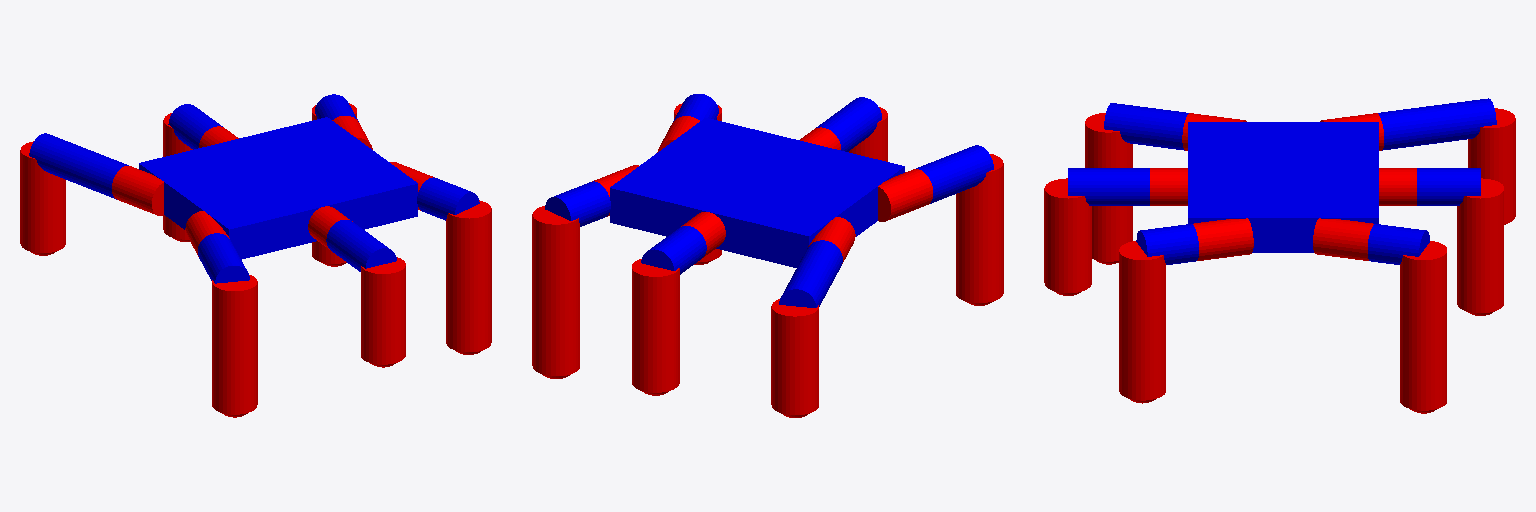
--- What the picture shows (computed from the rendered views, not written in the file) ---
The picture shows the robot from 3 angles, left to right: view 1: azimuth 30°, elevation 25°; view 2: azimuth 150°, elevation 25°; view 3: azimuth 270°, elevation 25°; orthographic projection.
Robot: pexod — 19 links, 18 joints (18 revolute); root link base_link; default pose: every joint at zero.
Visible links, largest first — view 1: base_link, leg_3_3, leg_5_3, leg_4_3, leg_0_3, leg_0_2, leg_4_2, leg_0_1, leg_5_2, leg_3_2, leg_1_2, leg_1_3 (+4 smaller); view 2: base_link, leg_2_3, leg_1_3, leg_5_3, leg_0_3, leg_0_2, leg_5_2, leg_5_1, leg_1_2, leg_2_2, leg_4_2, leg_4_3 (+5 smaller); view 3: base_link, leg_2_3, leg_3_3, leg_1_3, leg_4_3, leg_0_2, leg_5_3, leg_0_3, leg_4_2, leg_5_2, leg_1_2, leg_2_1 (+5 smaller).
Link boxes in pixels (bbox=[...]): base_link: bbox=[139, 117, 417, 259]; leg_3_3: bbox=[446, 200, 491, 354]; leg_5_3: bbox=[212, 275, 257, 417]; leg_4_3: bbox=[361, 257, 405, 367]; leg_0_3: bbox=[20, 141, 65, 255]; leg_0_2: bbox=[29, 133, 128, 199]; leg_4_2: bbox=[326, 220, 396, 271]; leg_0_1: bbox=[112, 166, 163, 215]; leg_5_2: bbox=[198, 233, 249, 283]; leg_3_2: bbox=[417, 177, 479, 220]; leg_1_2: bbox=[168, 104, 222, 149]; leg_1_3: bbox=[163, 113, 192, 241]; base_link: bbox=[610, 118, 904, 267]; leg_2_3: bbox=[532, 206, 579, 378]; leg_1_3: bbox=[632, 259, 679, 395]; leg_5_3: bbox=[956, 154, 1003, 305]; leg_0_3: bbox=[771, 299, 818, 417]; leg_0_2: bbox=[779, 240, 842, 307]; leg_5_2: bbox=[916, 145, 993, 203]; leg_5_1: bbox=[878, 169, 932, 221]; leg_1_2: bbox=[641, 226, 706, 274]; leg_2_2: bbox=[545, 181, 610, 226]; leg_4_2: bbox=[816, 97, 881, 151]; leg_4_3: bbox=[849, 107, 887, 161]; base_link: bbox=[1188, 122, 1378, 252]; leg_2_3: bbox=[1400, 241, 1446, 413]; leg_3_3: bbox=[1119, 241, 1165, 403]; leg_1_3: bbox=[1457, 178, 1503, 315]; leg_4_3: bbox=[1044, 178, 1091, 295]; leg_0_2: bbox=[1378, 98, 1496, 150]; leg_5_3: bbox=[1085, 113, 1132, 264]; leg_0_3: bbox=[1468, 108, 1515, 224]; leg_4_2: bbox=[1068, 168, 1149, 205]; leg_5_2: bbox=[1104, 103, 1188, 150]; leg_1_2: bbox=[1417, 168, 1480, 205]; leg_2_1: bbox=[1313, 218, 1373, 260].
Bounding box of the posed robot: 0.3785 × 0.495 × 0.2069 m (x, y, z).
Geometry: primitives only (box / cylinder / sphere), no mesh files.

robot.urdf — pexod:
<?xml version="1.0" ?>
<!-- =================================================================================== -->
<!-- |    This document was autogenerated by xacro from pexod.xacro                    | -->
<!-- |    EDITING THIS FILE BY HAND IS NOT RECOMMENDED                                 | -->
<!-- =================================================================================== -->
<robot name="pexod" xmlns:xacro="http://www.ros.org/wiki/xacro">
  <!-- <xacro:include filename="$(find pexod_description)/urdf/pexod_control.xacro" /> -->
  <!-- MATERIALS -->
  <material name="Blue">
    <color rgba="0 0 1 1"/>
  </material>
  <material name="Red">
    <color rgba="1 0 0 1"/>
  </material>
  <material name="Green">
    <color rgba="0 1 0 1"/>
  </material>
  <material name="Yellow">
    <color rgba="1 1 0 1"/>
  </material>
  <material name="LightGrey">
    <color rgba="0.6 0.6 0.6 1.0"/>
  </material>
  <!-- END OF MATERIALS -->
  <!-- XACRO MACROS FOR VISUALS AND COLLISIONS -->
  <!-- END OF XACRO MACROS -->
  <!-- TORSO -->
  <link name="base_link">
    <visual>
      <origin rpy="0 0 0" xyz="0 0 0"/>
      <geometry>
        <box size="0.24 0.2 0.04"/>
      </geometry>
      <material name="Blue"/>
    </visual>
    <collision>
      <origin rpy="0 0 0" xyz="0 0 0"/>
      <geometry>
        <box size="0.24 0.2 0.04"/>
      </geometry>
    </collision>
    <inertial>
      <!-- CENTER OF MASS -->
      <origin rpy="0 0 0" xyz="0 0 0"/>
      <mass value="1.031"/>
      <!-- box inertia: 1/12*m(y^2+z^2), ... -->
      <inertia ixx="0.00357413333333" ixy="0" ixz="0" iyy="0.00508626666667" iyz="0" izz="0.00838546666667"/>
    </inertial>
  </link>
  <!-- XACRO MACRO FOR LEGS LINKS/JOINTS -->
  <!-- END OF LEG LINKS/JOINTS -->
  <joint name="body_leg_2" type="revolute">
    <parent link="base_link"/>
    <child link="leg_2_1"/>
    <limit effort="30.0" lower="-1.57079632679" upper="1.57079632679" velocity="7.0"/>
    <origin rpy="0 0 -0.3" xyz="0.11 0.04 0"/>
    <!-- <xacro:if value="${index == 5 or index == 4 or index == 3}">
                <axis xyz="0 0 1"/>
            </xacro:if>
            <xacro:if value="${index == 2 or index == 1 or index == 0}"> -->
    <axis xyz="0 0 1"/>
    <!-- </xacro:if> -->
    <dynamics damping="0.0"/>
  </joint>
  <link name="leg_2_1">
    <visual>
      <origin rpy="1.57079632679 0 0" xyz="0.01 0.03 0"/>
      <geometry>
        <cylinder length="0.06" radius="0.02"/>
      </geometry>
      <material name="Red"/>
    </visual>
    <collision>
      <origin rpy="1.57079632679 0 0" xyz="0.01 0.03 0"/>
      <geometry>
        <box size="0.02 0.02 0.06"/>
      </geometry>
    </collision>
    <inertial>
      <!-- CENTER OF MASS -->
      <origin rpy="1.57079632679 0 0" xyz="0.01 0.03 0"/>
      <mass value="0.02"/>
      <!-- box inertia: 1/12*m(y^2+z^2), ... -->
      <inertia ixx="6.66666666667e-06" ixy="0" ixz="0" iyy="6.66666666667e-06" iyz="0" izz="1.33333333333e-06"/>
    </inertial>
  </link>
  <joint name="leg_2_1_2" type="revolute">
    <parent link="leg_2_1"/>
    <child link="leg_2_2"/>
    <limit effort="30.0" lower="-0.78539816339" upper="0.78539816339" velocity="7.0"/>
    <origin rpy="0 0 0" xyz="0 0.06 0"/>
    <axis xyz="1 0 0"/>
    <dynamics damping="0.0"/>
  </joint>
  <link name="leg_2_2">
    <visual>
      <origin rpy="1.57079632679 0 0" xyz="0.01 0.0282234931415 0"/>
      <geometry>
        <cylinder length="0.0564469862831" radius="0.02"/>
      </geometry>
      <material name="Blue"/>
    </visual>
    <collision>
      <origin rpy="1.57079632679 0 0" xyz="0.01 0.0282234931415 0"/>
      <geometry>
        <box size="0.02 0.02 0.0564469862831"/>
      </geometry>
    </collision>
    <inertial>
      <!-- CENTER OF MASS -->
      <origin rpy="1.57079632679 0 0" xyz="0.01 0.0282234931415 0"/>
      <mass value="0.184"/>
      <!-- box inertia: 1/12*m(y^2+z^2), ... -->
      <inertia ixx="5.49893546601e-05" ixy="0" ixz="0" iyy="5.49893546601e-05" iyz="0" izz="1.22666666667e-05"/>
    </inertial>
  </link>
  <joint name="leg_2_2_3" type="revolute">
    <parent link="leg_2_2"/>
    <child link="leg_2_3"/>
    <limit effort="30.0" lower="-0.78539816339" upper="0.78539816339" velocity="7.0"/>
    <origin rpy="-1.57079632679 0 0" xyz="0 0.0564469862831 0"/>
    <axis xyz="-1 0 0"/>
    <dynamics damping="0.0"/>
  </joint>
  <link name="leg_2_3">
    <visual>
      <origin rpy="1.57079632679 0 0" xyz="0.0125 0.087176072806 0"/>
      <geometry>
        <cylinder length="0.174352145612" radius="0.025"/>
      </geometry>
      <material name="Red"/>
    </visual>
    <visual>
      <origin rpy="1.57079632679 0 0" xyz="0.0125 0.161852145612 0"/>
      <geometry>
        <sphere radius="0.025"/>
      </geometry>
      <material name="Red"/>
    </visual>
    <collision>
      <origin rpy="1.57079632679 0 0" xyz="0.0125 0.087176072806 0"/>
      <geometry>
        <box size="0.025 0.025 0.174352145612"/>
      </geometry>
    </collision>
    <collision>
      <origin rpy="1.57079632679 0 0" xyz="0.0125 0.161852145612 0"/>
      <geometry>
        <sphere radius="0.025"/>
      </geometry>
      <material name="Red"/>
    </collision>
    <inertial>
      <!-- CENTER OF MASS -->
      <origin rpy="1.57079632679 0 0" xyz="0.0125 0.087176072806 0"/>
      <mass value="0.04"/>
      <!-- box inertia: 1/12*m(y^2+z^2), ... -->
      <inertia ixx="0.000103412235598" ixy="0" ixz="0" iyy="0.000103412235598" iyz="0" izz="4.16666666667e-06"/>
    </inertial>
  </link>
  <joint name="body_leg_3" type="revolute">
    <parent link="base_link"/>
    <child link="leg_3_1"/>
    <limit effort="30.0" lower="-1.57079632679" upper="1.57079632679" velocity="7.0"/>
    <origin rpy="0 0 0.3" xyz="0.11 -0.04 0"/>
    <!-- <xacro:if value="${index == 5 or index == 4 or index == 3}">
                <axis xyz="0 0 1"/>
            </xacro:if>
            <xacro:if value="${index == 2 or index == 1 or index == 0}"> -->
    <axis xyz="0 0 1"/>
    <!-- </xacro:if> -->
    <dynamics damping="0.0"/>
  </joint>
  <link name="leg_3_1">
    <visual>
      <origin rpy="1.57079632679 0 0" xyz="0.01 -0.03 0"/>
      <geometry>
        <cylinder length="0.06" radius="0.02"/>
      </geometry>
      <material name="Red"/>
    </visual>
    <collision>
      <origin rpy="1.57079632679 0 0" xyz="0.01 -0.03 0"/>
      <geometry>
        <box size="0.02 0.02 0.06"/>
      </geometry>
    </collision>
    <inertial>
      <!-- CENTER OF MASS -->
      <origin rpy="1.57079632679 0 0" xyz="0.01 -0.03 0"/>
      <mass value="0.02"/>
      <!-- box inertia: 1/12*m(y^2+z^2), ... -->
      <inertia ixx="6.66666666667e-06" ixy="0" ixz="0" iyy="6.66666666667e-06" iyz="0" izz="1.33333333333e-06"/>
    </inertial>
  </link>
  <joint name="leg_3_1_2" type="revolute">
    <parent link="leg_3_1"/>
    <child link="leg_3_2"/>
    <limit effort="30.0" lower="-0.78539816339" upper="0.78539816339" velocity="7.0"/>
    <origin rpy="0 0 0" xyz="0 -0.06 0"/>
    <axis xyz="-1 0 0"/>
    <dynamics damping="0.0"/>
  </joint>
  <link name="leg_3_2">
    <visual>
      <origin rpy="1.57079632679 0 0" xyz="0.01 -0.0283159302134 0"/>
      <geometry>
        <cylinder length="0.0566318604267" radius="0.02"/>
      </geometry>
      <material name="Blue"/>
    </visual>
    <collision>
      <origin rpy="1.57079632679 0 0" xyz="0.01 -0.0283159302134 0"/>
      <geometry>
        <box size="0.02 0.02 0.0566318604267"/>
      </geometry>
    </collision>
    <inertial>
      <!-- CENTER OF MASS -->
      <origin rpy="1.57079632679 0 0" xyz="0.01 -0.0283159302134 0"/>
      <mass value="0.184"/>
      <!-- box inertia: 1/12*m(y^2+z^2), ... -->
      <inertia ixx="5.5309903436e-05" ixy="0" ixz="0" iyy="5.5309903436e-05" iyz="0" izz="1.22666666667e-05"/>
    </inertial>
  </link>
  <joint name="leg_3_2_3" type="revolute">
    <parent link="leg_3_2"/>
    <child link="leg_3_3"/>
    <limit effort="30.0" lower="-0.78539816339" upper="0.78539816339" velocity="7.0"/>
    <origin rpy="1.57079632679 0 0" xyz="0 -0.0566318604267 0"/>
    <axis xyz="1 0 0"/>
    <dynamics damping="0.0"/>
  </joint>
  <link name="leg_3_3">
    <visual>
      <origin rpy="1.57079632679 0 0" xyz="0.0125 -0.081265682382 0"/>
      <geometry>
        <cylinder length="0.162531364764" radius="0.025"/>
      </geometry>
      <material name="Red"/>
    </visual>
    <visual>
      <origin rpy="1.57079632679 0 0" xyz="0.0125 -0.150031364764 0"/>
      <geometry>
        <sphere radius="0.025"/>
      </geometry>
      <material name="Red"/>
    </visual>
    <collision>
      <origin rpy="1.57079632679 0 0" xyz="0.0125 -0.081265682382 0"/>
      <geometry>
        <box size="0.025 0.025 0.162531364764"/>
      </geometry>
    </collision>
    <collision>
      <origin rpy="1.57079632679 0 0" xyz="0.0125 -0.150031364764 0"/>
      <geometry>
        <sphere radius="0.025"/>
      </geometry>
      <material name="Red"/>
    </collision>
    <inertial>
      <!-- CENTER OF MASS -->
      <origin rpy="1.57079632679 0 0" xyz="0.0125 -0.081265682382 0"/>
      <mass value="0.04"/>
      <!-- box inertia: 1/12*m(y^2+z^2), ... -->
      <inertia ixx="9.01381484402e-05" ixy="0" ixz="0" iyy="9.01381484402e-05" iyz="0" izz="4.16666666667e-06"/>
    </inertial>
  </link>
  <joint name="body_leg_0" type="revolute">
    <parent link="base_link"/>
    <child link="leg_0_1"/>
    <limit effort="30.0" lower="-1.57079632679" upper="1.57079632679" velocity="7.0"/>
    <origin rpy="0 0 0.3" xyz="-0.13 0.04 0"/>
    <!-- <xacro:if value="${index == 5 or index == 4 or index == 3}">
                <axis xyz="0 0 1"/>
            </xacro:if>
            <xacro:if value="${index == 2 or index == 1 or index == 0}"> -->
    <axis xyz="0 0 1"/>
    <!-- </xacro:if> -->
    <dynamics damping="0.0"/>
  </joint>
  <link name="leg_0_1">
    <visual>
      <origin rpy="1.57079632679 0 0" xyz="0.01 0.03 0"/>
      <geometry>
        <cylinder length="0.06" radius="0.02"/>
      </geometry>
      <material name="Red"/>
    </visual>
    <collision>
      <origin rpy="1.57079632679 0 0" xyz="0.01 0.03 0"/>
      <geometry>
        <box size="0.02 0.02 0.06"/>
      </geometry>
    </collision>
    <inertial>
      <!-- CENTER OF MASS -->
      <origin rpy="1.57079632679 0 0" xyz="0.01 0.03 0"/>
      <mass value="0.02"/>
      <!-- box inertia: 1/12*m(y^2+z^2), ... -->
      <inertia ixx="6.66666666667e-06" ixy="0" ixz="0" iyy="6.66666666667e-06" iyz="0" izz="1.33333333333e-06"/>
    </inertial>
  </link>
  <joint name="leg_0_1_2" type="revolute">
    <parent link="leg_0_1"/>
    <child link="leg_0_2"/>
    <limit effort="30.0" lower="-0.78539816339" upper="0.78539816339" velocity="7.0"/>
    <origin rpy="0 0 0" xyz="0 0.06 0"/>
    <axis xyz="1 0 0"/>
    <dynamics damping="0.0"/>
  </joint>
  <link name="leg_0_2">
    <visual>
      <origin rpy="1.57079632679 0 0" xyz="0.01 0.061790783689 0"/>
      <geometry>
        <cylinder length="0.123581567378" radius="0.02"/>
      </geometry>
      <material name="Blue"/>
    </visual>
    <collision>
      <origin rpy="1.57079632679 0 0" xyz="0.01 0.061790783689 0"/>
      <geometry>
        <box size="0.02 0.02 0.123581567378"/>
      </geometry>
    </collision>
    <inertial>
      <!-- CENTER OF MASS -->
      <origin rpy="1.57079632679 0 0" xyz="0.01 0.061790783689 0"/>
      <mass value="0.184"/>
      <!-- box inertia: 1/12*m(y^2+z^2), ... -->
      <inertia ixx="0.000240310191533" ixy="0" ixz="0" iyy="0.000240310191533" iyz="0" izz="1.22666666667e-05"/>
    </inertial>
  </link>
  <joint name="leg_0_2_3" type="revolute">
    <parent link="leg_0_2"/>
    <child link="leg_0_3"/>
    <limit effort="30.0" lower="-0.78539816339" upper="0.78539816339" velocity="7.0"/>
    <origin rpy="-1.57079632679 0 0" xyz="0 0.123581567378 0"/>
    <axis xyz="-1 0 0"/>
    <dynamics damping="0.0"/>
  </joint>
  <link name="leg_0_3">
    <visual>
      <origin rpy="1.57079632679 0 0" xyz="0.0125 0.0567997759425 0"/>
      <geometry>
        <cylinder length="0.113599551885" radius="0.025"/>
      </geometry>
      <material name="Red"/>
    </visual>
    <visual>
      <origin rpy="1.57079632679 0 0" xyz="0.0125 0.101099551885 0"/>
      <geometry>
        <sphere radius="0.025"/>
      </geometry>
      <material name="Red"/>
    </visual>
    <collision>
      <origin rpy="1.57079632679 0 0" xyz="0.0125 0.0567997759425 0"/>
      <geometry>
        <box size="0.025 0.025 0.113599551885"/>
      </geometry>
    </collision>
    <collision>
      <origin rpy="1.57079632679 0 0" xyz="0.0125 0.101099551885 0"/>
      <geometry>
        <sphere radius="0.025"/>
      </geometry>
      <material name="Red"/>
    </collision>
    <inertial>
      <!-- CENTER OF MASS -->
      <origin rpy="1.57079632679 0 0" xyz="0.0125 0.0567997759425 0"/>
      <mass value="0.04"/>
      <!-- box inertia: 1/12*m(y^2+z^2), ... -->
      <inertia ixx="4.50995272949e-05" ixy="0" ixz="0" iyy="4.50995272949e-05" iyz="0" izz="4.16666666667e-06"/>
    </inertial>
  </link>
  <joint name="body_leg_5" type="revolute">
    <parent link="base_link"/>
    <child link="leg_5_1"/>
    <limit effort="30.0" lower="-1.57079632679" upper="1.57079632679" velocity="7.0"/>
    <origin rpy="0 0 -0.3" xyz="-0.13 -0.04 0"/>
    <!-- <xacro:if value="${index == 5 or index == 4 or index == 3}">
                <axis xyz="0 0 1"/>
            </xacro:if>
            <xacro:if value="${index == 2 or index == 1 or index == 0}"> -->
    <axis xyz="0 0 1"/>
    <!-- </xacro:if> -->
    <dynamics damping="0.0"/>
  </joint>
  <link name="leg_5_1">
    <visual>
      <origin rpy="1.57079632679 0 0" xyz="0.01 -0.03 0"/>
      <geometry>
        <cylinder length="0.06" radius="0.02"/>
      </geometry>
      <material name="Red"/>
    </visual>
    <collision>
      <origin rpy="1.57079632679 0 0" xyz="0.01 -0.03 0"/>
      <geometry>
        <box size="0.02 0.02 0.06"/>
      </geometry>
    </collision>
    <inertial>
      <!-- CENTER OF MASS -->
      <origin rpy="1.57079632679 0 0" xyz="0.01 -0.03 0"/>
      <mass value="0.02"/>
      <!-- box inertia: 1/12*m(y^2+z^2), ... -->
      <inertia ixx="6.66666666667e-06" ixy="0" ixz="0" iyy="6.66666666667e-06" iyz="0" izz="1.33333333333e-06"/>
    </inertial>
  </link>
  <joint name="leg_5_1_2" type="revolute">
    <parent link="leg_5_1"/>
    <child link="leg_5_2"/>
    <limit effort="30.0" lower="-0.78539816339" upper="0.78539816339" velocity="7.0"/>
    <origin rpy="0 0 0" xyz="0 -0.06 0"/>
    <axis xyz="-1 0 0"/>
    <dynamics damping="0.0"/>
  </joint>
  <link name="leg_5_2">
    <visual>
      <origin rpy="1.57079632679 0 0" xyz="0.01 -0.0430972946011 0"/>
      <geometry>
        <cylinder length="0.0861945892022" radius="0.02"/>
      </geometry>
      <material name="Blue"/>
    </visual>
    <collision>
      <origin rpy="1.57079632679 0 0" xyz="0.01 -0.0430972946011 0"/>
      <geometry>
        <box size="0.02 0.02 0.0861945892022"/>
      </geometry>
    </collision>
    <inertial>
      <!-- CENTER OF MASS -->
      <origin rpy="1.57079632679 0 0" xyz="0.01 -0.0430972946011 0"/>
      <mass value="0.184"/>
      <!-- box inertia: 1/12*m(y^2+z^2), ... -->
      <inertia ixx="0.000120052443852" ixy="0" ixz="0" iyy="0.000120052443852" iyz="0" izz="1.22666666667e-05"/>
    </inertial>
  </link>
  <joint name="leg_5_2_3" type="revolute">
    <parent link="leg_5_2"/>
    <child link="leg_5_3"/>
    <limit effort="30.0" lower="-0.78539816339" upper="0.78539816339" velocity="7.0"/>
    <origin rpy="1.57079632679 0 0" xyz="0 -0.0861945892022 0"/>
    <axis xyz="1 0 0"/>
    <dynamics damping="0.0"/>
  </joint>
  <link name="leg_5_3">
    <visual>
      <origin rpy="1.57079632679 0 0" xyz="0.0125 -0.0748685669865 0"/>
      <geometry>
        <cylinder length="0.149737133973" radius="0.025"/>
      </geometry>
      <material name="Red"/>
    </visual>
    <visual>
      <origin rpy="1.57079632679 0 0" xyz="0.0125 -0.137237133973 0"/>
      <geometry>
        <sphere radius="0.025"/>
      </geometry>
      <material name="Red"/>
    </visual>
    <collision>
      <origin rpy="1.57079632679 0 0" xyz="0.0125 -0.0748685669865 0"/>
      <geometry>
        <box size="0.025 0.025 0.149737133973"/>
      </geometry>
    </collision>
    <collision>
      <origin rpy="1.57079632679 0 0" xyz="0.0125 -0.137237133973 0"/>
      <geometry>
        <sphere radius="0.025"/>
      </geometry>
      <material name="Red"/>
    </collision>
    <inertial>
      <!-- CENTER OF MASS -->
      <origin rpy="1.57079632679 0 0" xyz="0.0125 -0.0748685669865 0"/>
      <mass value="0.04"/>
      <!-- box inertia: 1/12*m(y^2+z^2), ... -->
      <inertia ixx="7.68206976348e-05" ixy="0" ixz="0" iyy="7.68206976348e-05" iyz="0" izz="4.16666666667e-06"/>
    </inertial>
  </link>
  <joint name="body_leg_1" type="revolute">
    <parent link="base_link"/>
    <child link="leg_1_1"/>
    <limit effort="30.0" lower="-1.57079632679" upper="1.57079632679" velocity="7.0"/>
    <origin rpy="0 0 0" xyz="-0.01 0.08 0"/>
    <!-- <xacro:if value="${index == 5 or index == 4 or index == 3}">
                <axis xyz="0 0 1"/>
            </xacro:if>
            <xacro:if value="${index == 2 or index == 1 or index == 0}"> -->
    <axis xyz="0 0 1"/>
    <!-- </xacro:if> -->
    <dynamics damping="0.0"/>
  </joint>
  <link name="leg_1_1">
    <visual>
      <origin rpy="1.57079632679 0 0" xyz="0.01 0.03 0"/>
      <geometry>
        <cylinder length="0.06" radius="0.02"/>
      </geometry>
      <material name="Red"/>
    </visual>
    <collision>
      <origin rpy="1.57079632679 0 0" xyz="0.01 0.03 0"/>
      <geometry>
        <box size="0.02 0.02 0.06"/>
      </geometry>
    </collision>
    <inertial>
      <!-- CENTER OF MASS -->
      <origin rpy="1.57079632679 0 0" xyz="0.01 0.03 0"/>
      <mass value="0.02"/>
      <!-- box inertia: 1/12*m(y^2+z^2), ... -->
      <inertia ixx="6.66666666667e-06" ixy="0" ixz="0" iyy="6.66666666667e-06" iyz="0" izz="1.33333333333e-06"/>
    </inertial>
  </link>
  <joint name="leg_1_1_2" type="revolute">
    <parent link="leg_1_1"/>
    <child link="leg_1_2"/>
    <limit effort="30.0" lower="-0.78539816339" upper="0.78539816339" velocity="7.0"/>
    <origin rpy="0 0 0" xyz="0 0.06 0"/>
    <axis xyz="1 0 0"/>
    <dynamics damping="0.0"/>
  </joint>
  <link name="leg_1_2">
    <visual>
      <origin rpy="1.57079632679 0 0" xyz="0.01 0.0336880691349 0"/>
      <geometry>
        <cylinder length="0.0673761382697" radius="0.02"/>
      </geometry>
      <material name="Blue"/>
    </visual>
    <collision>
      <origin rpy="1.57079632679 0 0" xyz="0.01 0.0336880691349 0"/>
      <geometry>
        <box size="0.02 0.02 0.0673761382697"/>
      </geometry>
    </collision>
    <inertial>
      <!-- CENTER OF MASS -->
      <origin rpy="1.57079632679 0 0" xyz="0.01 0.0336880691349 0"/>
      <mass value="0.184"/>
      <!-- box inertia: 1/12*m(y^2+z^2), ... -->
      <inertia ixx="7.57396747914e-05" ixy="0" ixz="0" iyy="7.57396747914e-05" iyz="0" izz="1.22666666667e-05"/>
    </inertial>
  </link>
  <joint name="leg_1_2_3" type="revolute">
    <parent link="leg_1_2"/>
    <child link="leg_1_3"/>
    <limit effort="30.0" lower="-0.78539816339" upper="0.78539816339" velocity="7.0"/>
    <origin rpy="-1.57079632679 0 0" xyz="0 0.0673761382697 0"/>
    <axis xyz="-1 0 0"/>
    <dynamics damping="0.0"/>
  </joint>
  <link name="leg_1_3">
    <visual>
      <origin rpy="1.57079632679 0 0" xyz="0.0125 0.0665938469885 0"/>
      <geometry>
        <cylinder length="0.133187693977" radius="0.025"/>
      </geometry>
      <material name="Red"/>
    </visual>
    <visual>
      <origin rpy="1.57079632679 0 0" xyz="0.0125 0.120687693977 0"/>
      <geometry>
        <sphere radius="0.025"/>
      </geometry>
      <material name="Red"/>
    </visual>
    <collision>
      <origin rpy="1.57079632679 0 0" xyz="0.0125 0.0665938469885 0"/>
      <geometry>
        <box size="0.025 0.025 0.133187693977"/>
      </geometry>
    </collision>
    <collision>
      <origin rpy="1.57079632679 0 0" xyz="0.0125 0.120687693977 0"/>
      <geometry>
        <sphere radius="0.025"/>
      </geometry>
      <material name="Red"/>
    </collision>
    <inertial>
      <!-- CENTER OF MASS -->
      <origin rpy="1.57079632679 0 0" xyz="0.0125 0.0665938469885 0"/>
      <mass value="0.04"/>
      <!-- box inertia: 1/12*m(y^2+z^2), ... -->
      <inertia ixx="6.12132060897e-05" ixy="0" ixz="0" iyy="6.12132060897e-05" iyz="0" izz="4.16666666667e-06"/>
    </inertial>
  </link>
  <joint name="body_leg_4" type="revolute">
    <parent link="base_link"/>
    <child link="leg_4_1"/>
    <limit effort="30.0" lower="-1.57079632679" upper="1.57079632679" velocity="7.0"/>
    <origin rpy="0 0 0" xyz="-0.01 -0.08 0"/>
    <!-- <xacro:if value="${index == 5 or index == 4 or index == 3}">
                <axis xyz="0 0 1"/>
            </xacro:if>
            <xacro:if value="${index == 2 or index == 1 or index == 0}"> -->
    <axis xyz="0 0 1"/>
    <!-- </xacro:if> -->
    <dynamics damping="0.0"/>
  </joint>
  <link name="leg_4_1">
    <visual>
      <origin rpy="1.57079632679 0 0" xyz="0.01 -0.03 0"/>
      <geometry>
        <cylinder length="0.06" radius="0.02"/>
      </geometry>
      <material name="Red"/>
    </visual>
    <collision>
      <origin rpy="1.57079632679 0 0" xyz="0.01 -0.03 0"/>
      <geometry>
        <box size="0.02 0.02 0.06"/>
      </geometry>
    </collision>
    <inertial>
      <!-- CENTER OF MASS -->
      <origin rpy="1.57079632679 0 0" xyz="0.01 -0.03 0"/>
      <mass value="0.02"/>
      <!-- box inertia: 1/12*m(y^2+z^2), ... -->
      <inertia ixx="6.66666666667e-06" ixy="0" ixz="0" iyy="6.66666666667e-06" iyz="0" izz="1.33333333333e-06"/>
    </inertial>
  </link>
  <joint name="leg_4_1_2" type="revolute">
    <parent link="leg_4_1"/>
    <child link="leg_4_2"/>
    <limit effort="30.0" lower="-0.78539816339" upper="0.78539816339" velocity="7.0"/>
    <origin rpy="0 0 0" xyz="0 -0.06 0"/>
    <axis xyz="-1 0 0"/>
    <dynamics damping="0.0"/>
  </joint>
  <link name="leg_4_2">
    <visual>
      <origin rpy="1.57079632679 0 0" xyz="0.01 -0.043015545143 0"/>
      <geometry>
        <cylinder length="0.0860310902859" radius="0.02"/>
      </geometry>
      <material name="Blue"/>
    </visual>
    <collision>
      <origin rpy="1.57079632679 0 0" xyz="0.01 -0.043015545143 0"/>
      <geometry>
        <box size="0.02 0.02 0.0860310902859"/>
      </geometry>
    </collision>
    <inertial>
      <!-- CENTER OF MASS -->
      <origin rpy="1.57079632679 0 0" xyz="0.01 -0.043015545143 0"/>
      <mass value="0.184"/>
      <!-- box inertia: 1/12*m(y^2+z^2), ... -->
      <inertia ixx="0.000119620676935" ixy="0" ixz="0" iyy="0.000119620676935" iyz="0" izz="1.22666666667e-05"/>
    </inertial>
  </link>
  <joint name="leg_4_2_3" type="revolute">
    <parent link="leg_4_2"/>
    <child link="leg_4_3"/>
    <limit effort="30.0" lower="-0.78539816339" upper="0.78539816339" velocity="7.0"/>
    <origin rpy="1.57079632679 0 0" xyz="0 -0.0860310902859 0"/>
    <axis xyz="1 0 0"/>
    <dynamics damping="0.0"/>
  </joint>
  <link name="leg_4_3">
    <visual>
      <origin rpy="1.57079632679 0 0" xyz="0.0125 -0.054963270889 0"/>
      <geometry>
        <cylinder length="0.109926541778" radius="0.025"/>
      </geometry>
      <material name="Red"/>
    </visual>
    <visual>
      <origin rpy="1.57079632679 0 0" xyz="0.0125 -0.097426541778 0"/>
      <geometry>
        <sphere radius="0.025"/>
      </geometry>
      <material name="Red"/>
    </visual>
    <collision>
      <origin rpy="1.57079632679 0 0" xyz="0.0125 -0.054963270889 0"/>
      <geometry>
        <box size="0.025 0.025 0.109926541778"/>
      </geometry>
    </collision>
    <collision>
      <origin rpy="1.57079632679 0 0" xyz="0.0125 -0.097426541778 0"/>
      <geometry>
        <sphere radius="0.025"/>
      </geometry>
      <material name="Red"/>
    </collision>
    <inertial>
      <!-- CENTER OF MASS -->
      <origin rpy="1.57079632679 0 0" xyz="0.0125 -0.054963270889 0"/>
      <mass value="0.04"/>
      <!-- box inertia: 1/12*m(y^2+z^2), ... -->
      <inertia ixx="4.23628152909e-05" ixy="0" ixz="0" iyy="4.23628152909e-05" iyz="0" izz="4.16666666667e-06"/>
    </inertial>
  </link>
  <!-- END OF LEG LINKS/JOINTS -->
</robot>
